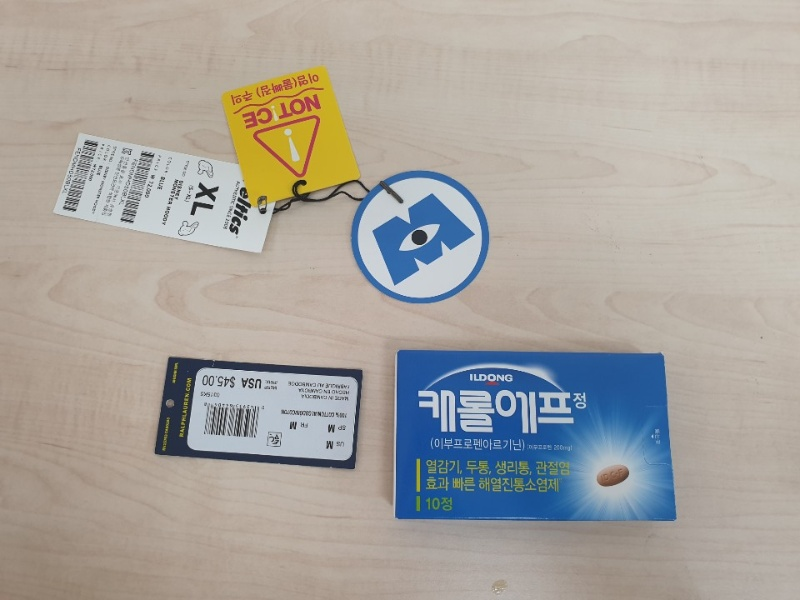carolF: (391, 351, 679, 525)
